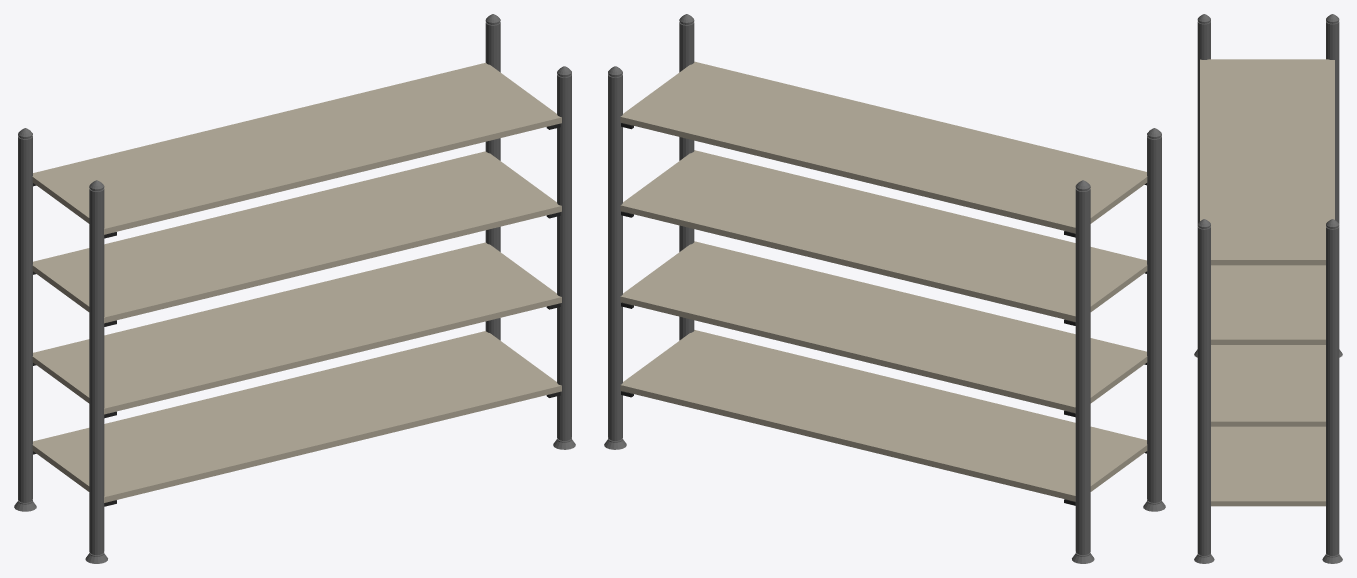
File: armoir.fbx
3 views of the same model, side by side, from view 1: azimuth 30°, elevation 25°; view 2: azimuth 150°, elevation 25°; view 3: azimuth 270°, elevation 25° (orthographic). The views are drawn at different scales.
Visible parts, largest first — view 1: Cube.305; view 2: Cube.305; view 3: Cube.305.
Part boxes in pixels (x1=…): Cube.305: x1=14, y1=14, x2=575, y2=563; Cube.305: x1=604, y1=14, x2=1165, y2=563; Cube.305: x1=1194, y1=14, x2=1342, y2=563.
Bounding box in the file's own units: 353 × 262 × 104.
